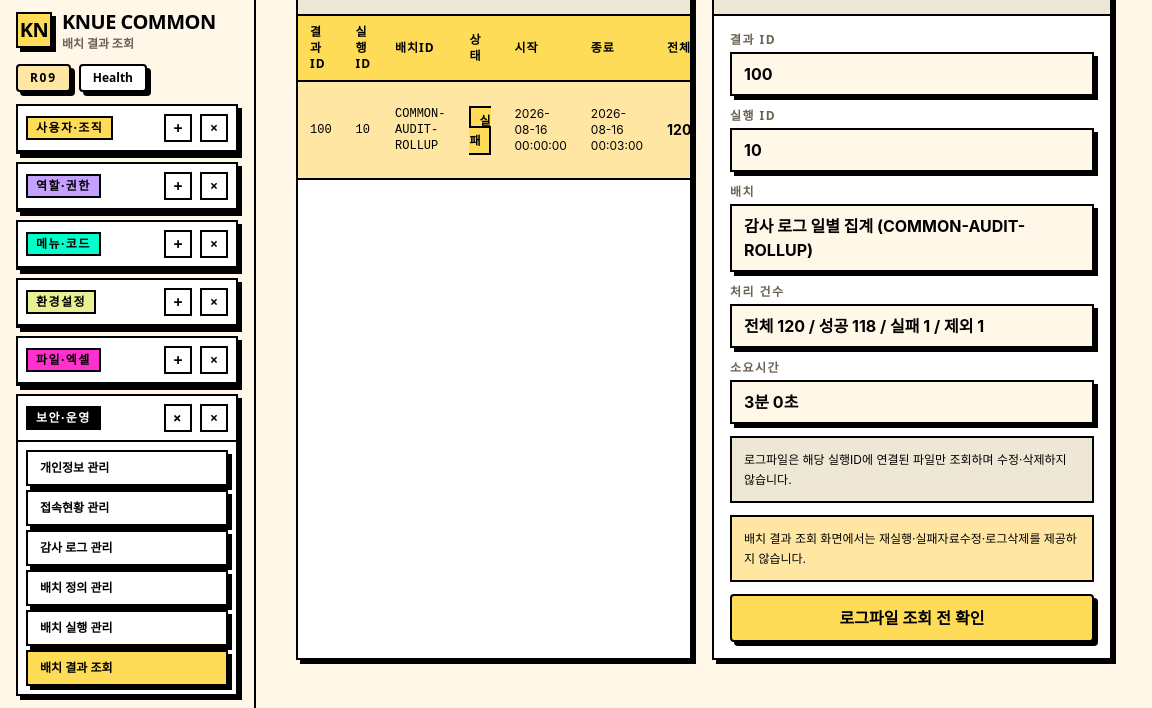
Test case: smoke: opens batch-result route, loads immutable result counts, and previews selected log
(page scrolled)
Check: the text "COMMON-AUDIT-ROLLUP" is shown, box 383,81 -> 458,179
Check: the text "배치 결과 조회 화면에서는 재실행·실패자료수정·로그삭제를 제공하지 않습니다." is shown, box 730,515 -> 1094,582
Step 1. Click the button "로그파일 조회 전 확인" → [912, 618], box 730,594 -> 1094,642
(page scrolled)
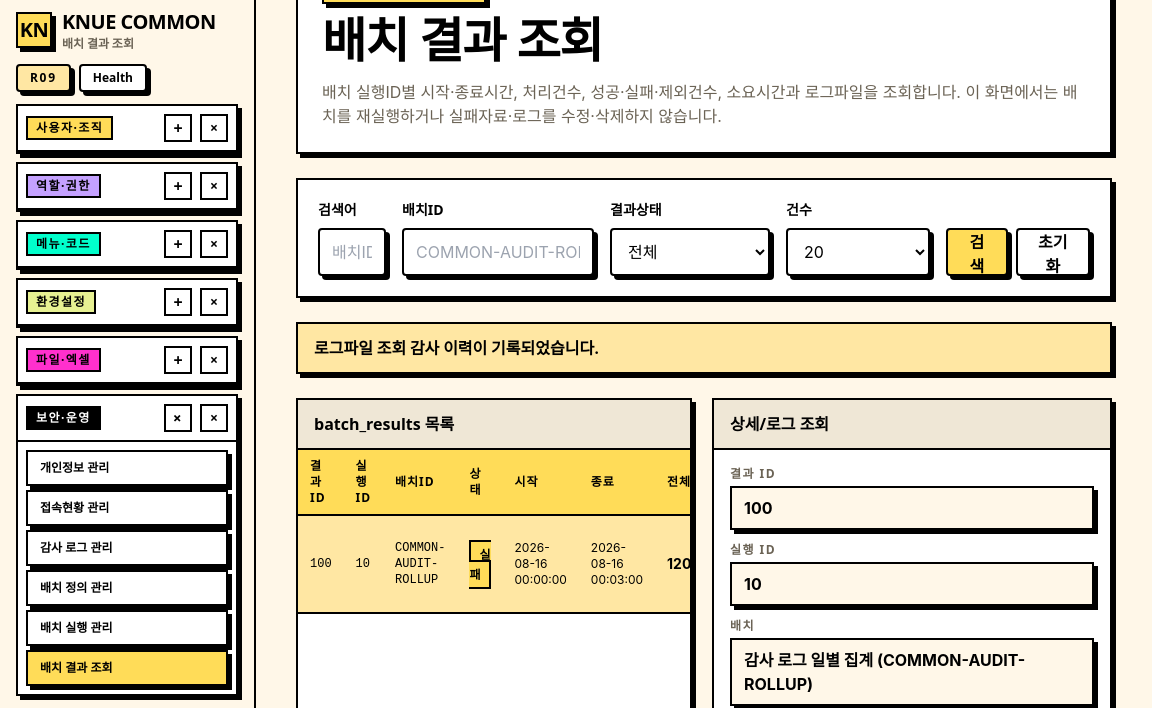
Check: the text "로그파일 조회 감사 이력이 기록되었습니다." is shown, box 296,322 -> 1112,374
